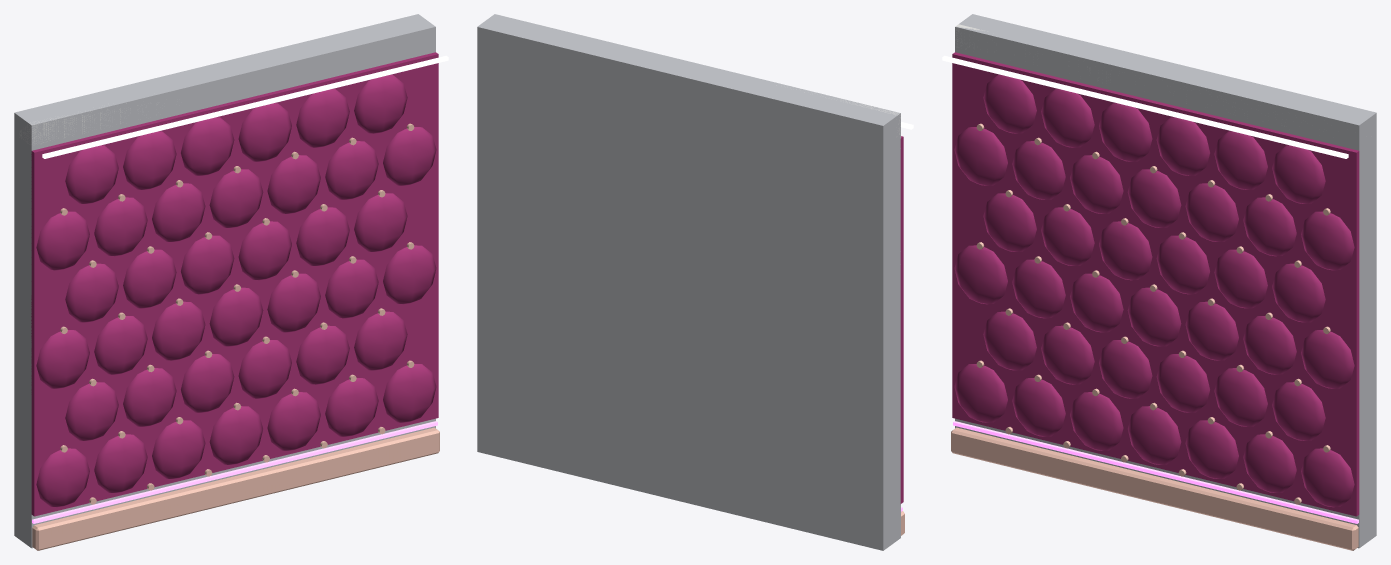
File: wall_pad.glb
3 renders of one model, left to right at view 1: azimuth 30°, elevation 25°; view 2: azimuth 150°, elevation 25°; view 3: azimuth 330°, elevation 25°, orthographic.
Visible parts, largest first — view 1: wall_pad; view 2: wall_pad; view 3: wall_pad.
Part boxes in pixels (bbox=[...]): wall_pad: bbox=[14, 14, 448, 550]; wall_pad: bbox=[477, 14, 913, 550]; wall_pad: bbox=[942, 14, 1376, 550].
Bounding box in the file's own units: 4 × 4 × 0.52.
